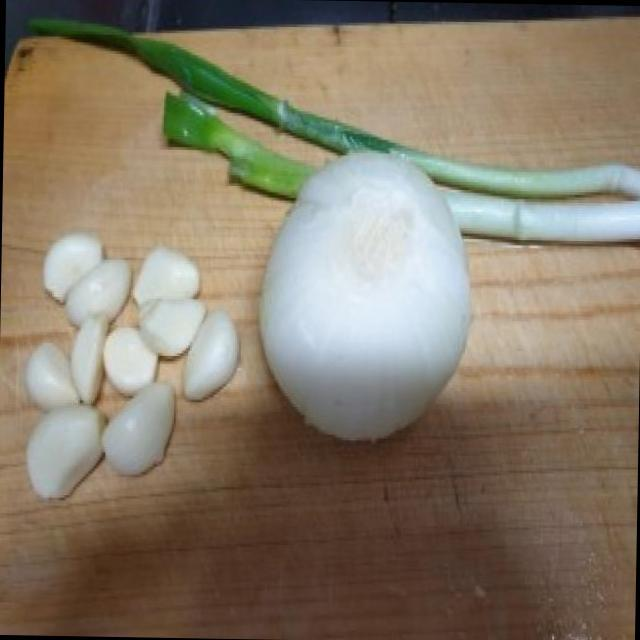Onion: (257, 147, 480, 450)
